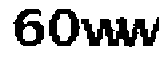0: (47, 4, 81, 49)
6: (11, 5, 46, 47)
w: (81, 15, 121, 50), (122, 16, 160, 49)
